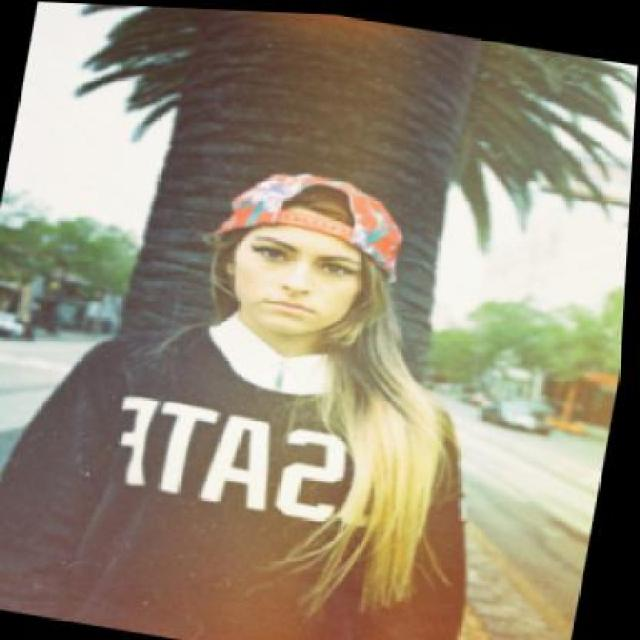hat: (202, 136, 424, 281)
